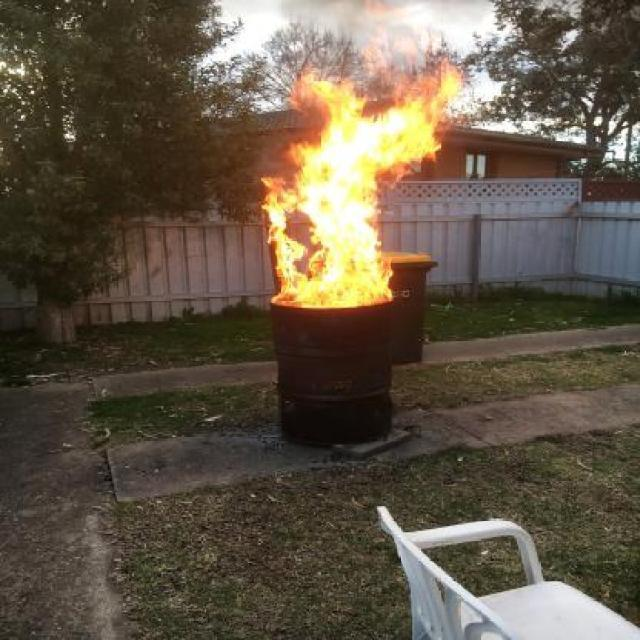fire: (251, 65, 456, 304)
